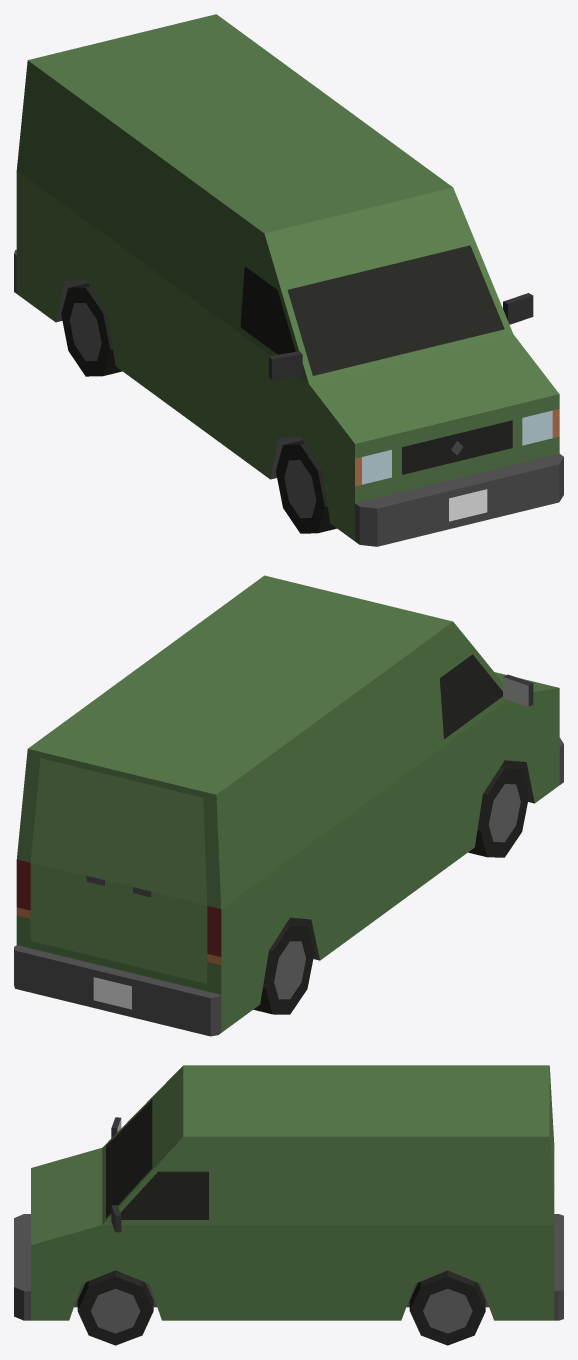
The model's file is Veh_Van_03_Green.obj.
The picture shows the model from 3 angles, top to bottom: view 1: azimuth 30°, elevation 25°; view 2: azimuth 150°, elevation 25°; view 3: azimuth 270°, elevation 25°; orthographic projection. The views are drawn at different scales.
Size of the model in its own units: 1.41 by 1.37 by 3.31.
